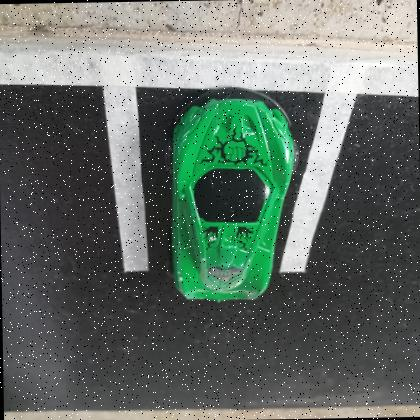Car: (170, 89, 296, 300)
